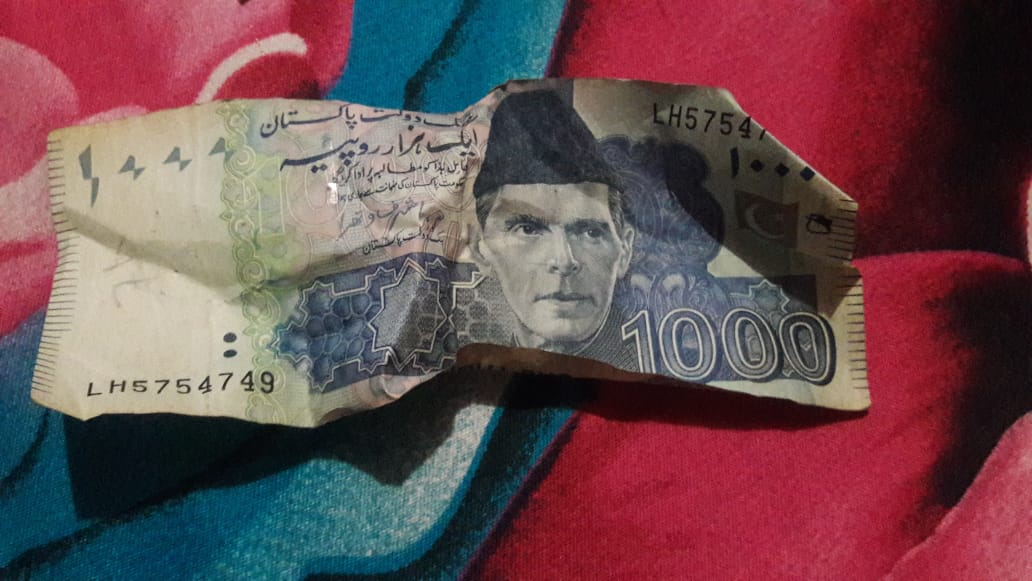1000 rupee: (40, 87, 886, 453)
